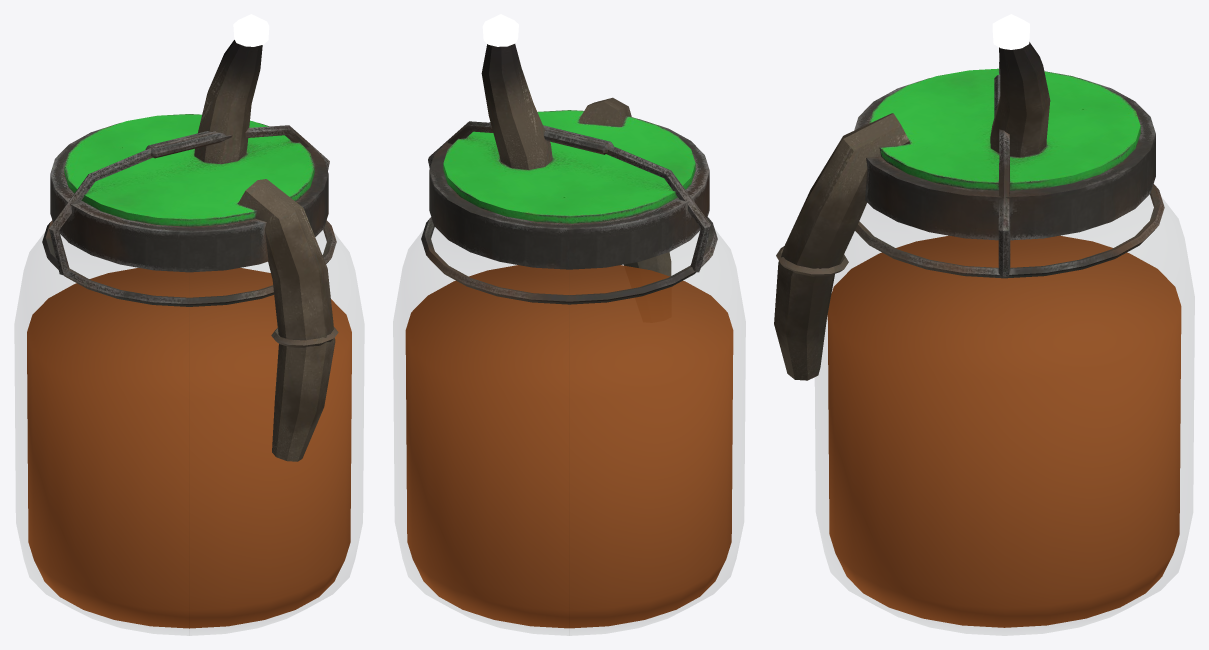
File: cinderjar.glb
The picture shows the model from 3 angles, left to right: view 1: azimuth 30°, elevation 25°; view 2: azimuth 150°, elevation 25°; view 3: azimuth 270°, elevation 25°; orthographic projection. The views are drawn at different scales.
Visible parts, largest first — view 1: Glass, Fill, Body, Band; view 2: Glass, Fill, Body, Band; view 3: Glass, Fill, Body, Band.
Boxes of the visible parts, <box> form: Glass: <box>15,223,363,635</box>; Fill: <box>27,267,351,628</box>; Body: <box>42,40,338,461</box>; Band: <box>233,14,269,46</box>; Glass: <box>393,220,745,635</box>; Fill: <box>405,265,733,628</box>; Body: <box>421,44,717,304</box>; Band: <box>482,14,518,46</box>; Glass: <box>815,187,1194,635</box>; Fill: <box>827,235,1181,627</box>; Body: <box>774,42,1164,380</box>; Band: <box>992,14,1029,49</box>.
Size of the model in its own units: 0.112 by 0.193 by 0.1238.
Materials: 4 (1 with a texture image).
